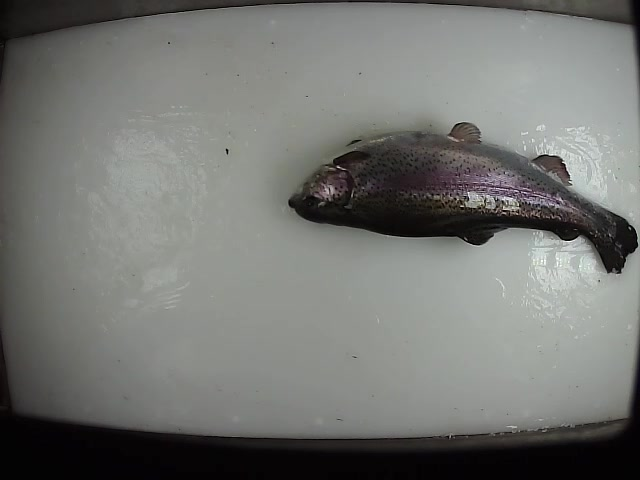fish: (285, 120, 638, 276)
